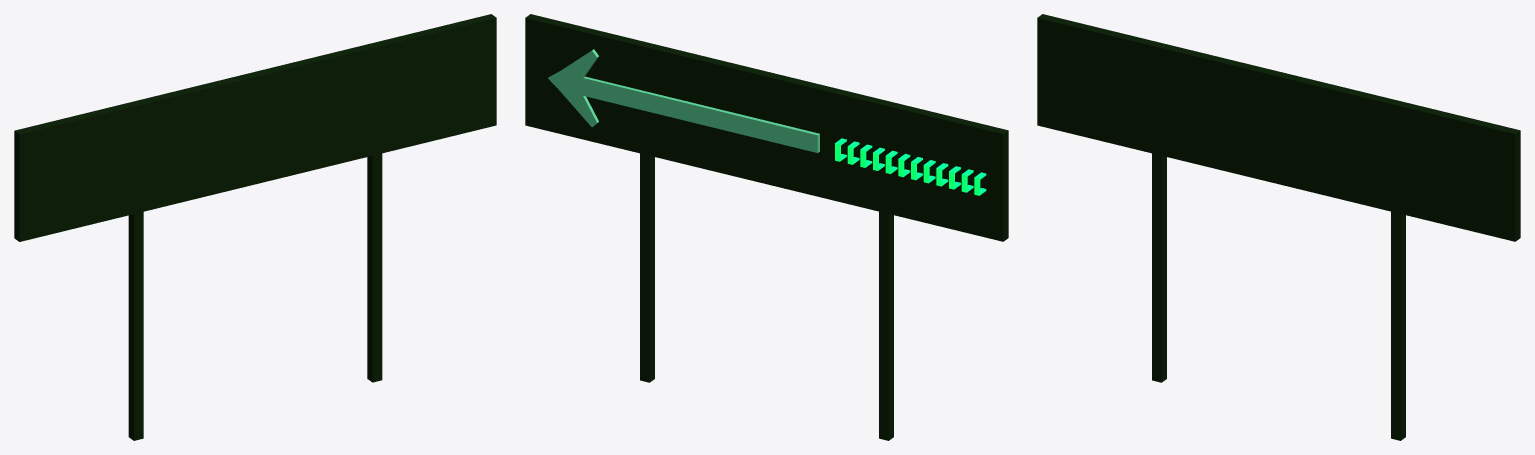
The model's file is Signal_03.fbx.
3 renders of one model, left to right at view 1: azimuth 30°, elevation 25°; view 2: azimuth 150°, elevation 25°; view 3: azimuth 330°, elevation 25°, orthographic.
Visible parts, largest first — view 1: Arrow_SX; view 2: Arrow_SX; view 3: Arrow_SX.
Part boxes in pixels (x1,y1,x2,y2): Arrow_SX: (14,14,496,440); Arrow_SX: (525,14,1008,440); Arrow_SX: (1037,14,1520,440).
Bounding box in the file's own units: 330 × 221 × 15.54.
